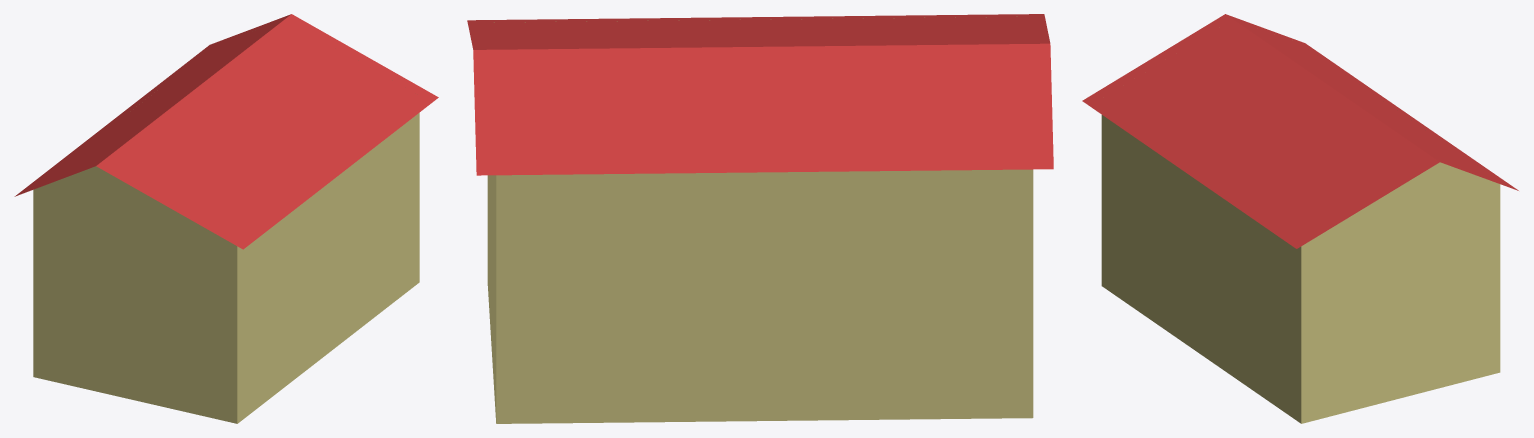
3 views of the same model, side by side, from view 1: azimuth 30°, elevation 25°; view 2: azimuth 150°, elevation 25°; view 3: azimuth 270°, elevation 25° (orthographic). The views are drawn at different scales.
Size of the model in its own units: 16.99 by 15.26 by 8.96.
